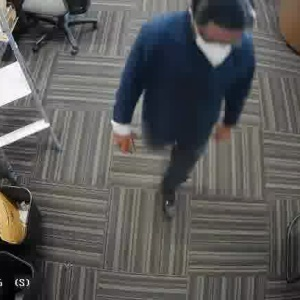person: (113, 0, 256, 211)
